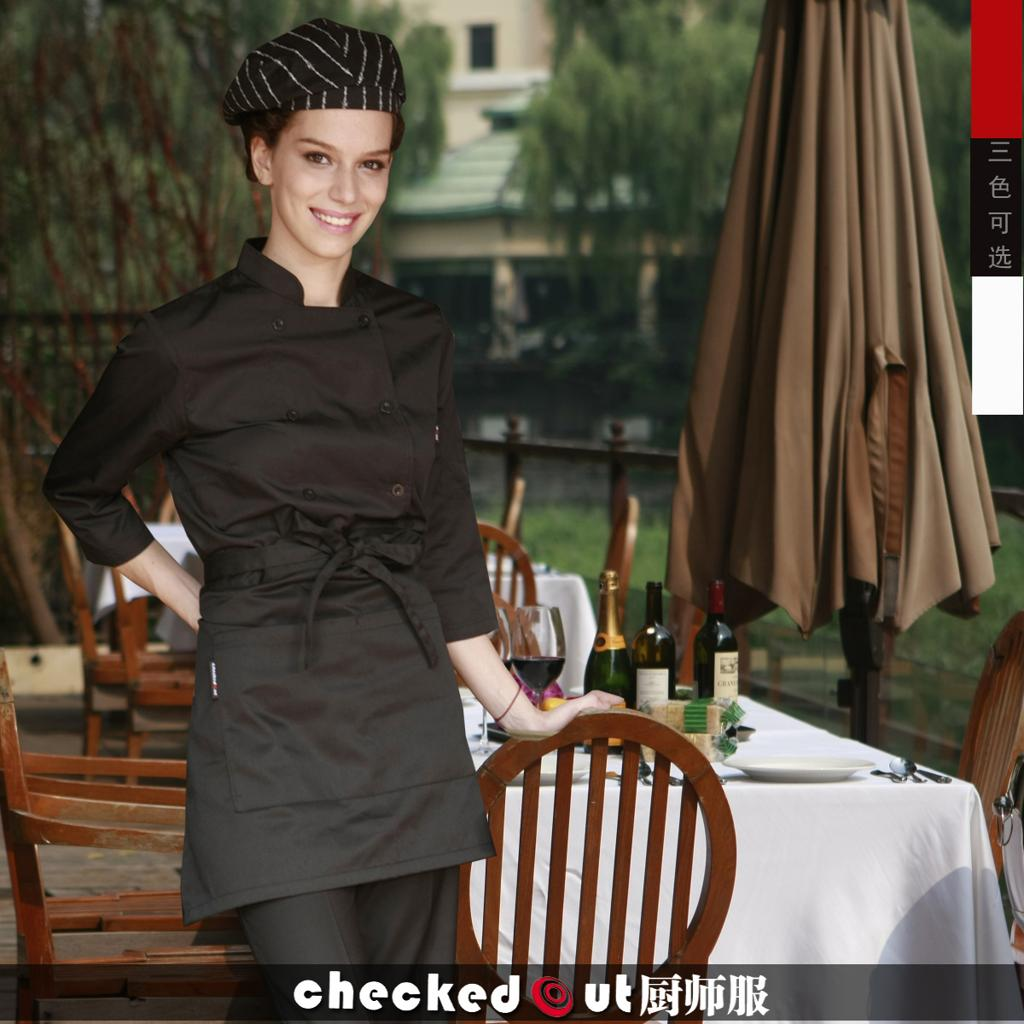face: (276, 84, 394, 254)
